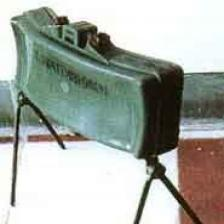MOH-50: (11, 7, 183, 163)
